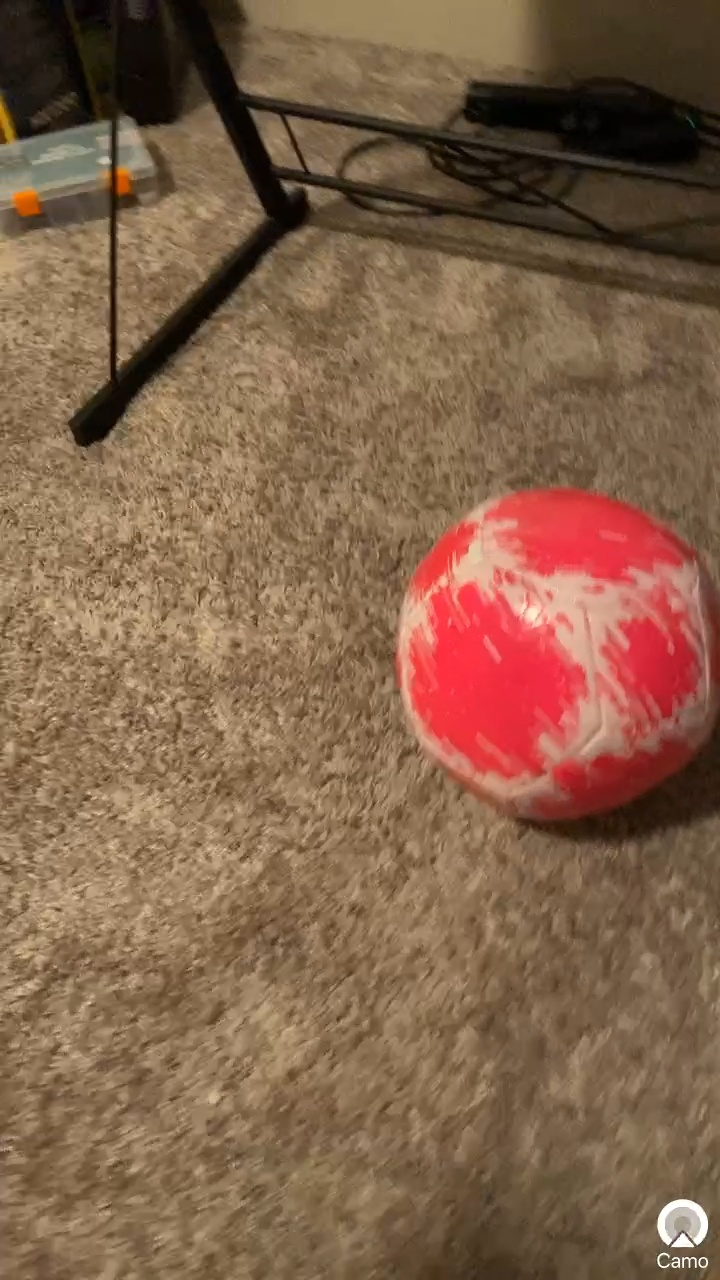Soccer_Ball: (382, 478, 720, 836)
